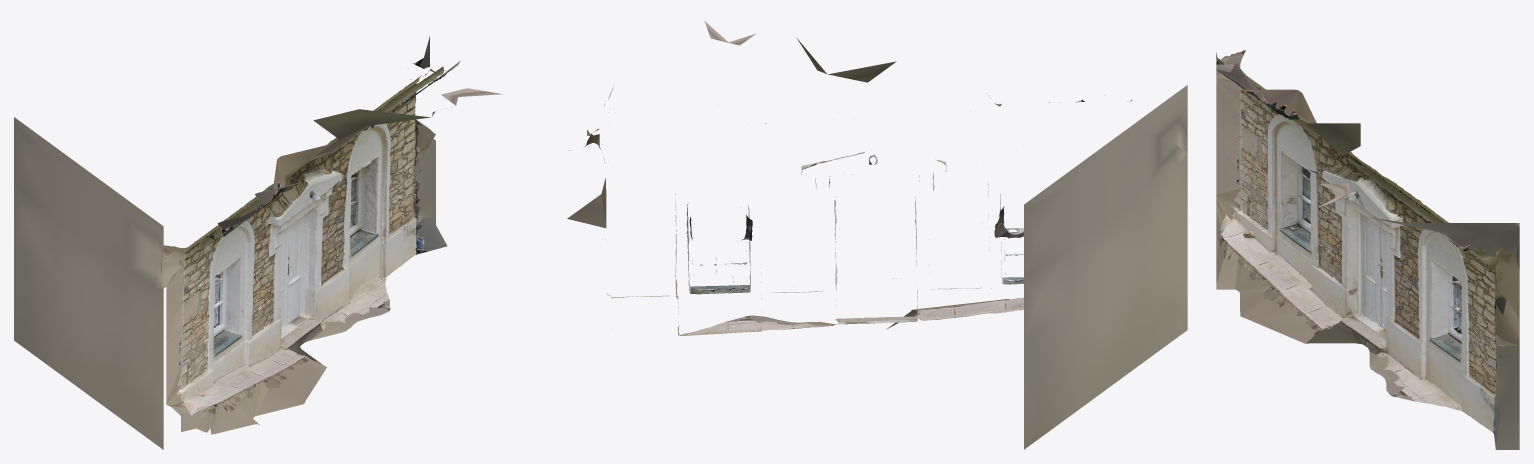
The model's file is prague-castle.glb.
3 renders of one model, left to right at view 1: azimuth 30°, elevation 25°; view 2: azimuth 150°, elevation 25°; view 3: azimuth 270°, elevation 25°, orthographic. The views are drawn at different scales.
Parts seen in each view (by area): view 1: Object_6, Object_5, Object_4, Object_7; view 2: Object_6, Object_5, Object_4, Object_7; view 3: Object_6, Object_5, Object_4, Object_7.
Part boxes in pixels (bbox=[...]): Object_6: bbox=[14, 117, 331, 449]; Object_5: bbox=[166, 146, 427, 401]; Object_4: bbox=[283, 36, 460, 287]; Object_7: bbox=[197, 88, 502, 343]; Object_6: bbox=[873, 85, 1187, 449]; Object_5: bbox=[607, 99, 1131, 335]; Object_4: bbox=[567, 85, 864, 335]; Object_7: bbox=[704, 21, 1003, 326]; Object_6: bbox=[1216, 50, 1374, 345]; Object_5: bbox=[1216, 58, 1518, 435]; Object_4: bbox=[1330, 151, 1519, 449]; Object_7: bbox=[1216, 64, 1414, 386].
Size of the model in its own units: 0.8604 by 0.4356 by 0.5276.
1 material, 1 textured.
